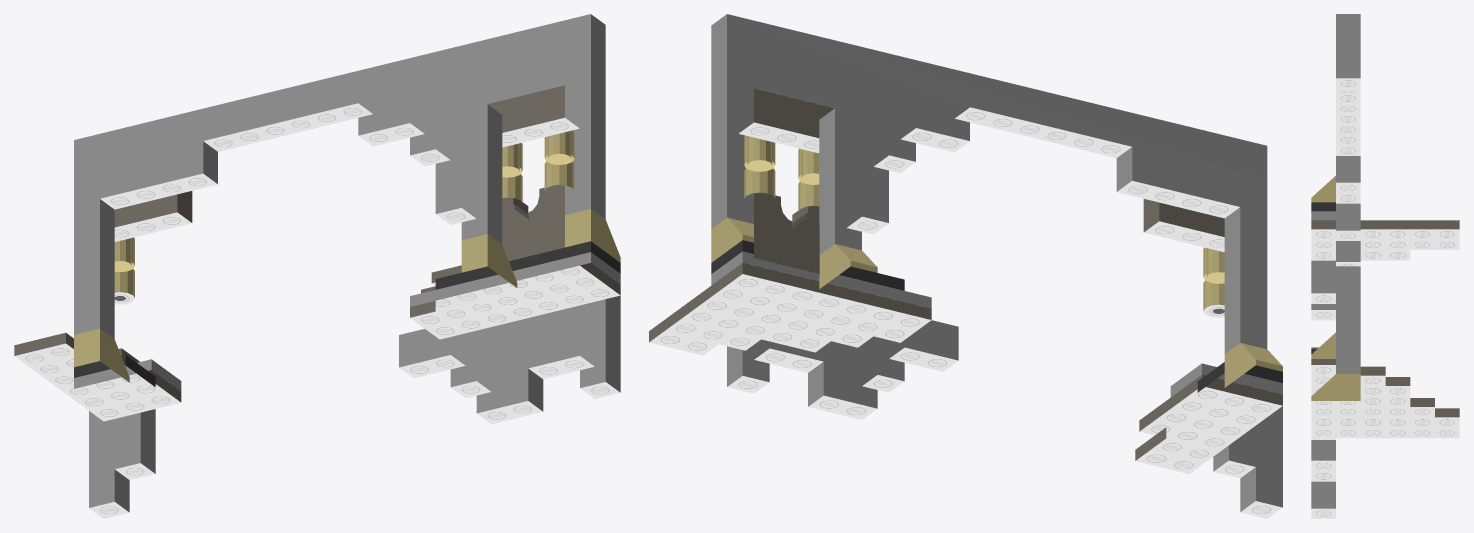
3 views of the same model, side by side, from view 1: azimuth 30°, elevation 25°; view 2: azimuth 150°, elevation 25°; view 3: azimuth 270°, elevation 25° (orthographic). The views are drawn at different scales.
Parts seen in each view (by area): view 1: 014_MC010_PART_1, 004_MC010_PART_2, 009_MC010_PART_3; view 2: 014_MC010_PART_1, 004_MC010_PART_2, 009_MC010_PART_3; view 3: 014_MC010_PART_1, 004_MC010_PART_2.
Part boxes in pixels (x1,y1,x2,y2): 014_MC010_PART_1: (74,14,620,518); 004_MC010_PART_2: (14,85,620,421); 009_MC010_PART_3: (114,237,134,304); 014_MC010_PART_1: (711,14,1282,518); 004_MC010_PART_2: (649,88,1282,474); 009_MC010_PART_3: (1203,247,1224,317); 014_MC010_PART_1: (1311,14,1360,518); 004_MC010_PART_2: (1311,220,1459,438).
Bounding box in the file's own units: 16 × 10.56 × 4.8.
Materials: 9 (4 with a texture image).
